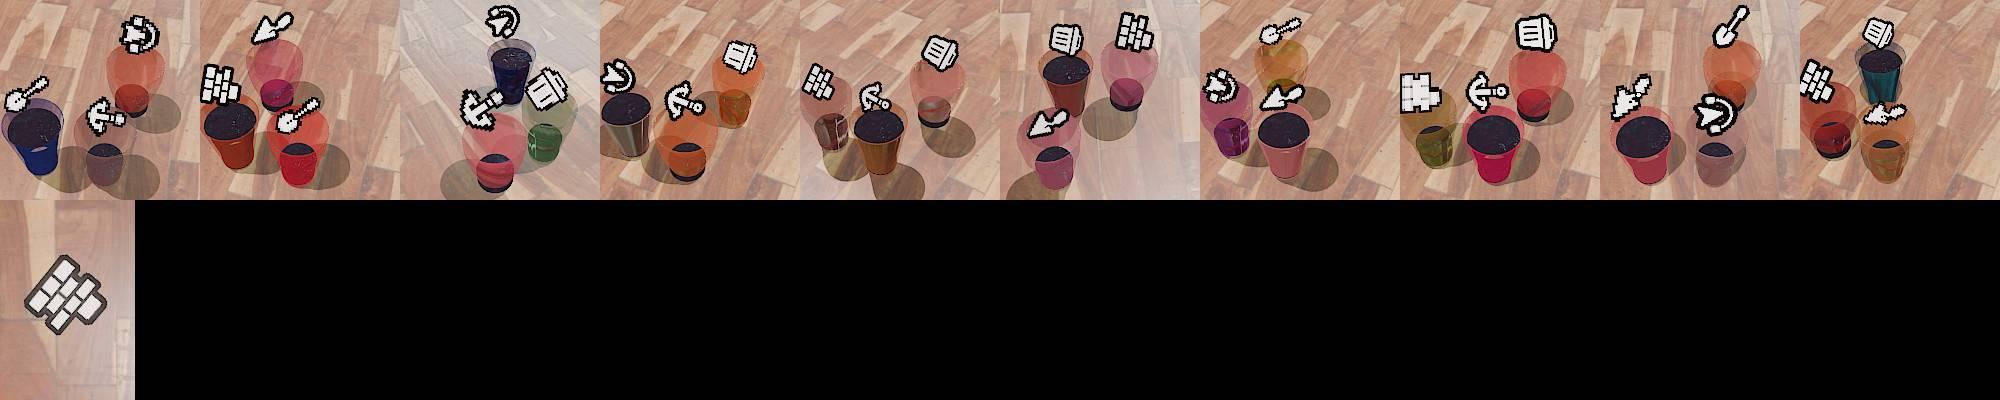icon: (23, 254, 108, 335), (1610, 72, 1654, 120), (525, 66, 570, 111), (1692, 92, 1738, 136), (1400, 71, 1444, 116), (458, 87, 503, 131), (1465, 69, 1510, 112), (663, 78, 708, 121), (274, 94, 321, 135), (200, 62, 242, 106), (85, 95, 128, 136), (1515, 14, 1559, 54), (5, 74, 51, 112), (1114, 11, 1155, 53), (119, 14, 160, 55), (1798, 58, 1836, 102), (1713, 4, 1750, 49), (251, 10, 294, 46), (1260, 79, 1306, 111), (921, 34, 959, 72), (1027, 106, 1071, 138), (1047, 21, 1084, 58), (801, 62, 837, 100), (601, 58, 637, 95), (722, 40, 759, 75), (1261, 16, 1304, 46), (1203, 68, 1238, 104), (485, 4, 520, 40), (1862, 17, 1896, 51), (858, 80, 891, 113), (1862, 100, 1907, 124)
